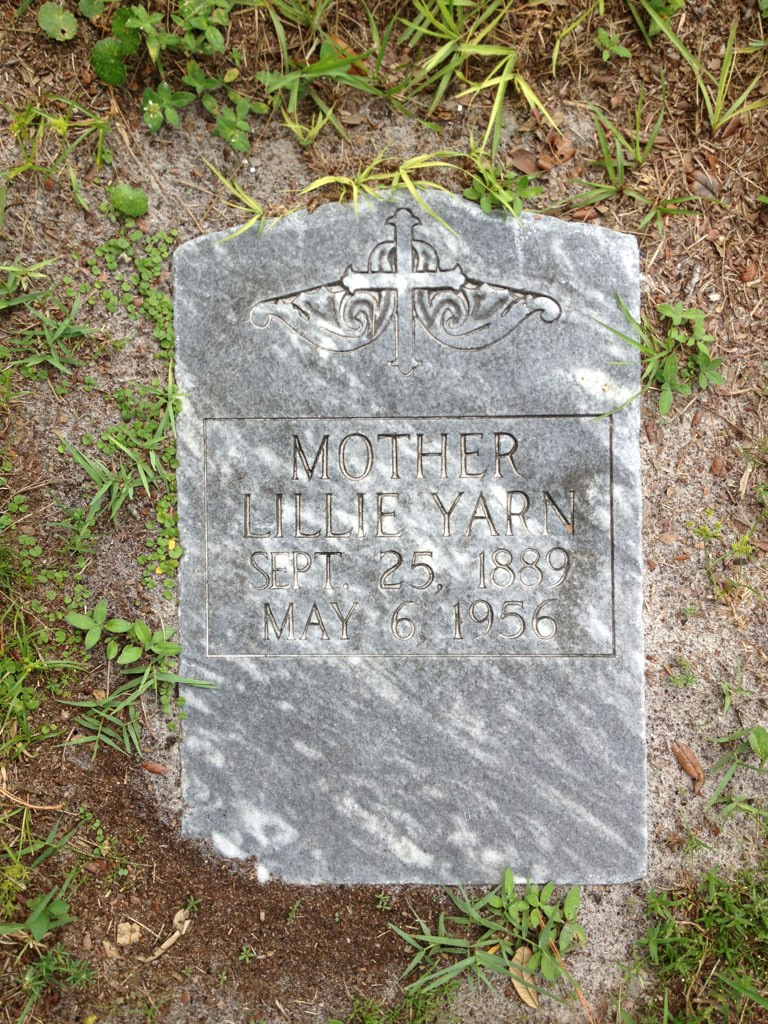flat: (170, 171, 649, 885)
